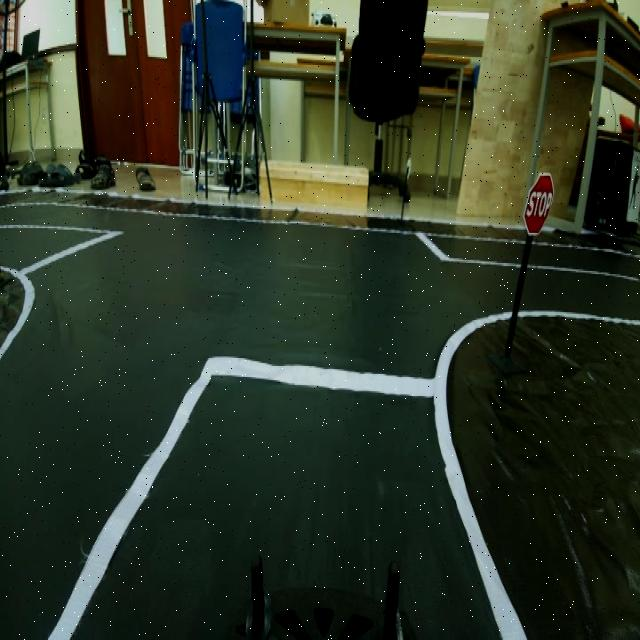stop: (520, 165, 558, 248)
